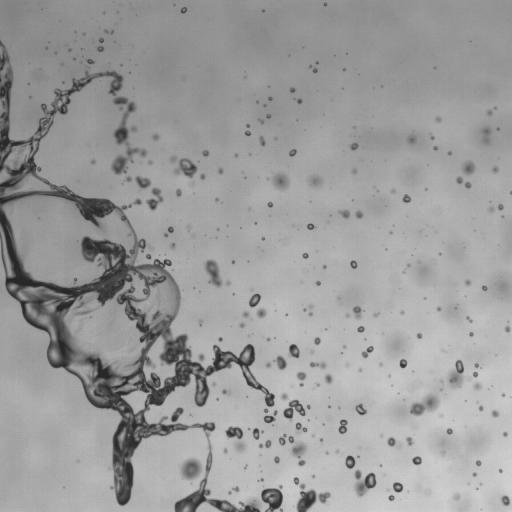droplet: (293, 477, 330, 511), (410, 393, 439, 415), (354, 470, 376, 497), (283, 399, 310, 420), (446, 360, 464, 389), (225, 426, 245, 452), (180, 458, 201, 482), (173, 158, 197, 177), (146, 188, 163, 210), (271, 172, 289, 190), (135, 176, 151, 189), (462, 161, 474, 174), (249, 293, 260, 307), (288, 344, 299, 358), (275, 355, 286, 369), (387, 437, 401, 448), (309, 176, 322, 187), (296, 372, 306, 386), (338, 419, 347, 434), (295, 422, 307, 433), (345, 455, 355, 468), (355, 404, 366, 415), (353, 306, 362, 319), (252, 428, 262, 439), (256, 308, 266, 318), (393, 482, 403, 492), (501, 495, 510, 505), (412, 456, 421, 465), (339, 210, 349, 218), (402, 194, 411, 202), (350, 142, 358, 150), (399, 359, 407, 367), (473, 382, 481, 390), (325, 374, 332, 383), (259, 136, 265, 146), (483, 127, 490, 135), (350, 260, 357, 268), (406, 437, 413, 445), (408, 136, 415, 143), (289, 149, 296, 156), (355, 211, 362, 218), (491, 410, 498, 417), (307, 223, 315, 229), (152, 134, 159, 140), (202, 150, 209, 156), (456, 176, 462, 183), (357, 326, 364, 332), (314, 337, 320, 344), (281, 393, 287, 400), (453, 493, 459, 500), (222, 389, 230, 394), (170, 156, 176, 162), (465, 182, 471, 188), (243, 311, 249, 317), (505, 326, 511, 332), (446, 428, 452, 434), (176, 189, 181, 196), (274, 456, 279, 463), (181, 7, 186, 13), (97, 46, 103, 51), (435, 117, 441, 122), (493, 166, 498, 172), (125, 176, 131, 181), (267, 202, 273, 207), (498, 204, 503, 210), (302, 253, 308, 258), (466, 317, 472, 322), (239, 322, 245, 327), (416, 333, 422, 338), (476, 460, 481, 466), (388, 495, 394, 500), (487, 110, 492, 115), (218, 168, 223, 173), (200, 174, 205, 179), (170, 243, 175, 248), (146, 254, 151, 259), (465, 280, 470, 285), (482, 285, 487, 290), (266, 362, 271, 367), (478, 405, 483, 410), (87, 59, 93, 63), (484, 137, 488, 143), (290, 88, 295, 92), (297, 99, 302, 103), (245, 131, 250, 135), (489, 207, 494, 211), (474, 363, 479, 367), (99, 38, 103, 42), (313, 68, 317, 72), (266, 114, 270, 118), (259, 119, 263, 123), (433, 146, 437, 150), (148, 160, 152, 164), (352, 169, 356, 173), (391, 189, 395, 193), (187, 225, 191, 229), (226, 281, 230, 285), (316, 281, 320, 285), (437, 307, 441, 311), (308, 312, 312, 316), (374, 313, 378, 317), (469, 332, 473, 336), (218, 337, 222, 341), (503, 432, 507, 436), (472, 472, 476, 476), (309, 304, 312, 309), (104, 30, 108, 33), (431, 135, 434, 139), (91, 160, 95, 163), (400, 311, 404, 314), (345, 314, 349, 317), (223, 449, 227, 452), (246, 124, 249, 127), (323, 265, 326, 268), (199, 321, 202, 324), (267, 338, 270, 341), (310, 350, 313, 353), (379, 363, 382, 366), (212, 382, 215, 385), (259, 478, 262, 481), (269, 97, 271, 100), (448, 152, 451, 154), (215, 198, 218, 200), (316, 383, 319, 385), (502, 393, 504, 396), (336, 450, 338, 453), (499, 470, 502, 472), (343, 346, 345, 348), (359, 369, 361, 371), (320, 439, 322, 441)
ligament: (0, 41, 282, 511), (278, 434, 306, 466), (204, 259, 222, 287), (361, 346, 373, 358), (108, 308, 116, 325), (310, 362, 326, 369), (258, 440, 271, 448), (164, 226, 173, 236), (467, 371, 477, 380), (228, 487, 239, 493), (510, 191, 511, 194)
